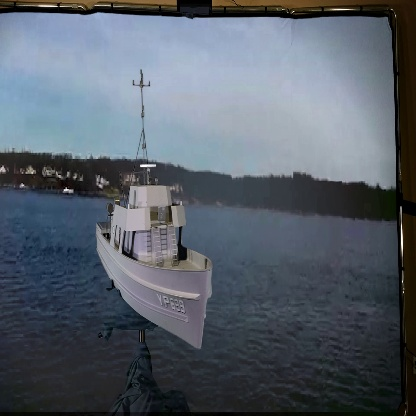YP689: (94, 68, 211, 351)
